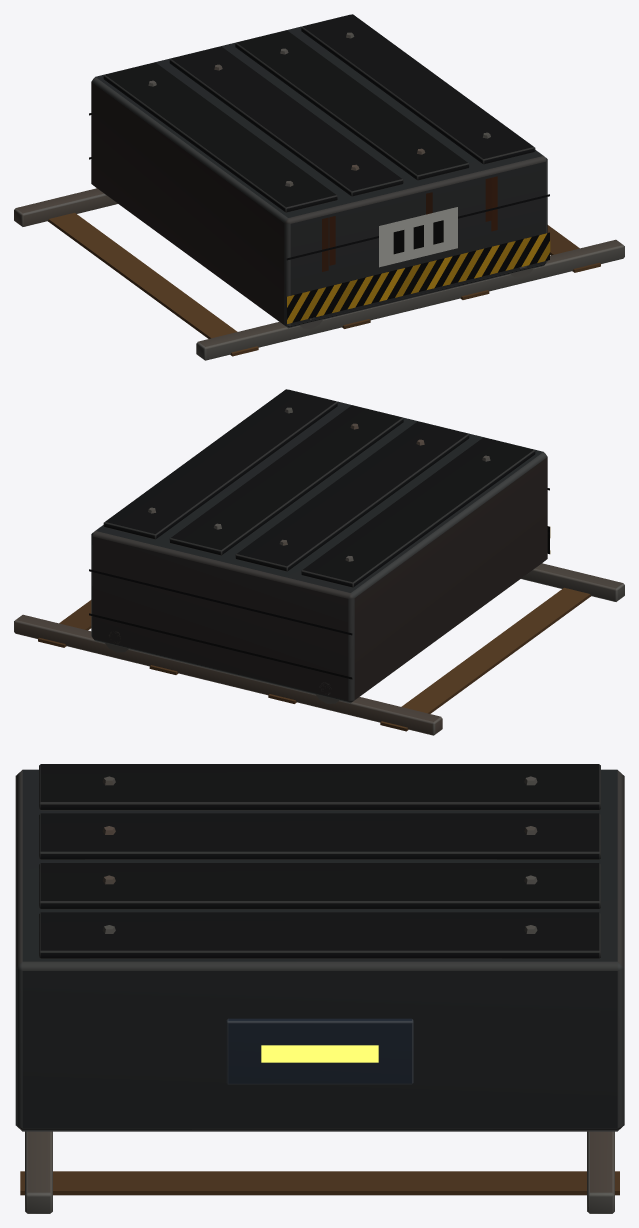
Rendered from counterweight_sled.glb.
3 renders of one model, top to bottom at view 1: azimuth 30°, elevation 25°; view 2: azimuth 150°, elevation 25°; view 3: azimuth 270°, elevation 25°, orthographic. The views are drawn at different scales.
Visible parts, largest first — view 1: Frame; view 2: Frame; view 3: Frame.
Part boxes in pixels (x1,y1,x2,y2): Frame: (14,14,624,360); Frame: (14,389,624,735); Frame: (15,764,624,1213).
Size of the model in its own units: 3.2 by 0.96 by 2.61.
